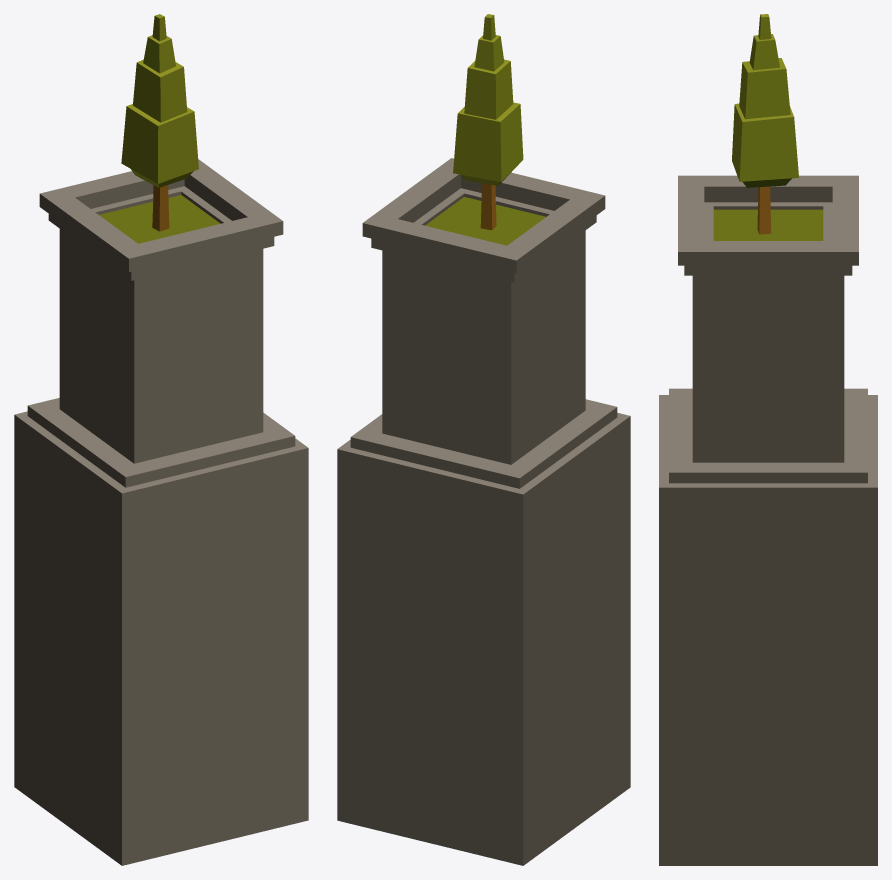
File: SF_Bld_Elven_Castle_Wall_Tree_02.fbx
The picture shows the model from 3 angles, left to right: view 1: azimuth 30°, elevation 25°; view 2: azimuth 150°, elevation 25°; view 3: azimuth 270°, elevation 25°; orthographic projection.
Visible parts, largest first — view 1: SF_Bld_Elven_Castle_Wall_Tree_02; view 2: SF_Bld_Elven_Castle_Wall_Tree_02; view 3: SF_Bld_Elven_Castle_Wall_Tree_02.
Boxes of the visible parts, x1=… form: SF_Bld_Elven_Castle_Wall_Tree_02: x1=14, y1=14, x2=308, y2=865; SF_Bld_Elven_Castle_Wall_Tree_02: x1=337, y1=14, x2=630, y2=865; SF_Bld_Elven_Castle_Wall_Tree_02: x1=659, y1=14, x2=877, y2=865.
Bounding box in the file's own units: 6.69 × 27.04 × 6.69.
